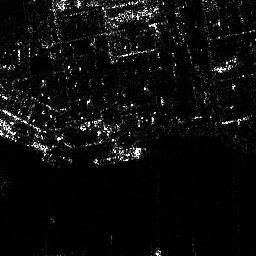ship: (24, 139, 74, 166), (92, 143, 147, 166)
